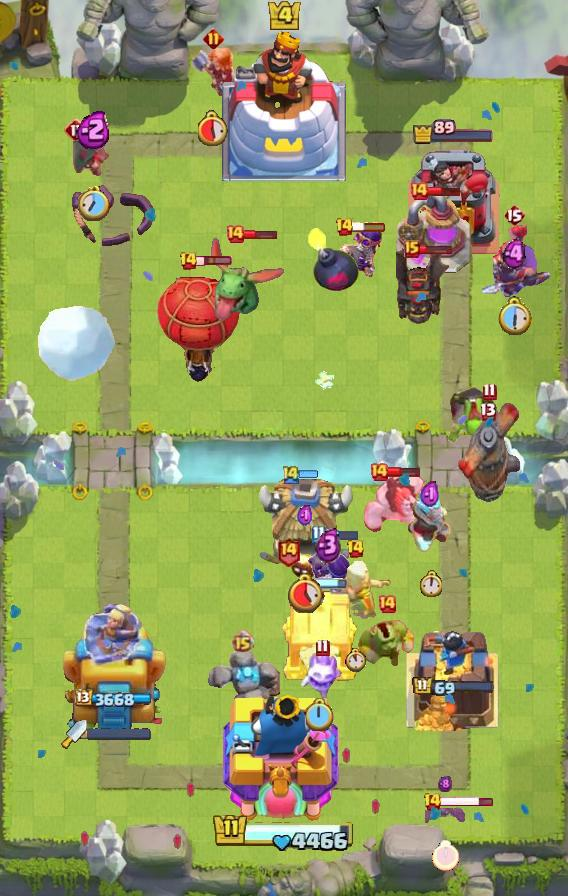archer-evolution: (396, 245, 454, 327)
baby-dragon: (306, 225, 360, 293)
bar: (59, 595, 169, 731)
bar-level: (447, 384, 497, 444)
barbarian-barrel: (425, 802, 465, 828)
bomb: (280, 588, 360, 682)
bomber: (290, 551, 318, 579)
cannon-cart: (155, 264, 241, 382)
clock: (212, 812, 356, 854)
dark-prince: (450, 393, 528, 505)
electro-spirit: (76, 109, 112, 149), (315, 527, 342, 563), (503, 238, 526, 270), (420, 480, 440, 510), (297, 504, 313, 528), (438, 775, 452, 793)
electro-wizard: (209, 237, 287, 323)
elixir: (285, 571, 325, 612), (496, 296, 532, 336), (78, 187, 110, 222), (199, 110, 230, 146), (306, 698, 334, 730), (432, 840, 459, 871), (418, 571, 441, 598), (345, 648, 368, 672)
elixir-golem-big: (478, 225, 550, 297)
emote: (439, 795, 494, 808), (325, 527, 360, 540), (196, 255, 233, 267), (351, 221, 387, 233), (419, 243, 454, 255), (426, 187, 462, 198), (388, 466, 421, 478), (311, 579, 347, 590), (242, 229, 277, 240), (298, 469, 317, 480)
flying-machine: (358, 617, 416, 671)
goblin-ball: (306, 534, 350, 600), (334, 224, 384, 278)
hog-rider: (189, 48, 237, 98)
king-tower: (222, 31, 346, 181), (223, 689, 345, 826)
king-tower-bar: (87, 728, 151, 740)
mirror: (300, 646, 344, 700)
mortar: (405, 489, 455, 555)
pekka: (394, 193, 472, 275)
poison: (308, 551, 402, 623)
prince: (254, 479, 356, 575)
queen-tower: (403, 146, 503, 256), (405, 621, 501, 731)
rage: (361, 471, 427, 535)
selected: (413, 119, 496, 145), (413, 676, 496, 698), (74, 689, 154, 709)
tesla: (68, 127, 120, 179)
text: (275, 536, 300, 567), (64, 118, 88, 142), (230, 630, 253, 654), (503, 203, 525, 227), (204, 28, 225, 49), (281, 463, 301, 485), (409, 181, 429, 201), (225, 224, 245, 244), (178, 251, 198, 271), (369, 462, 389, 482), (377, 594, 397, 614), (335, 217, 354, 237), (347, 539, 366, 559), (422, 792, 441, 812), (404, 240, 420, 258), (314, 638, 329, 657), (483, 383, 497, 401), (311, 525, 325, 543)
valkyrie-evolution: (204, 651, 280, 729)
wall-breaker: (36, 302, 118, 381)
